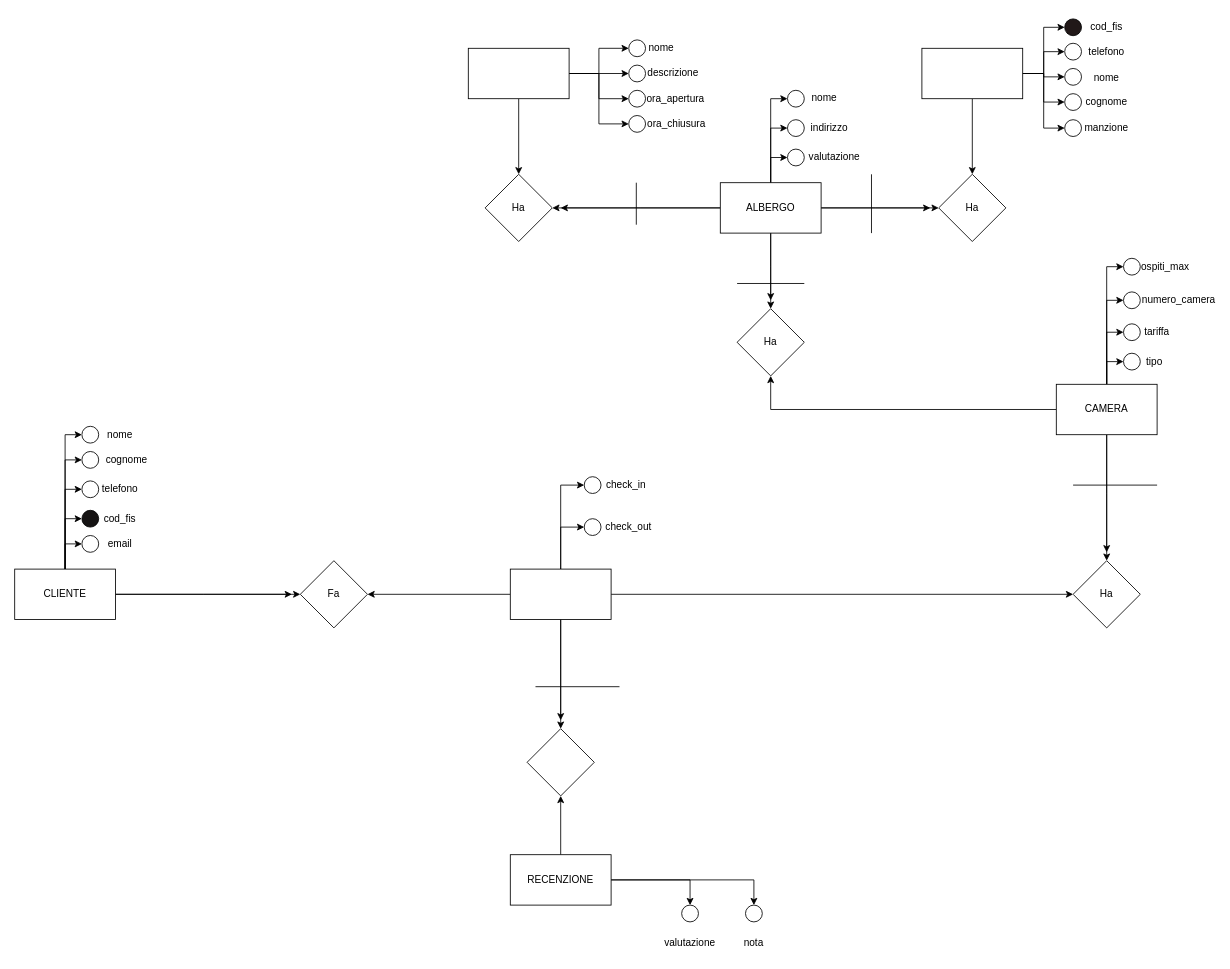
Image size: 1230x969. Some labels were removed from this diagram. Here are the shapes that lost their labels. From the top down, the centre of each, then its label:
the point at 518,73: FACILITIES
the point at 972,73: DIPENDENTE
the point at 560,594: PRENOTAZIONE
the point at 560,762: Può avere
